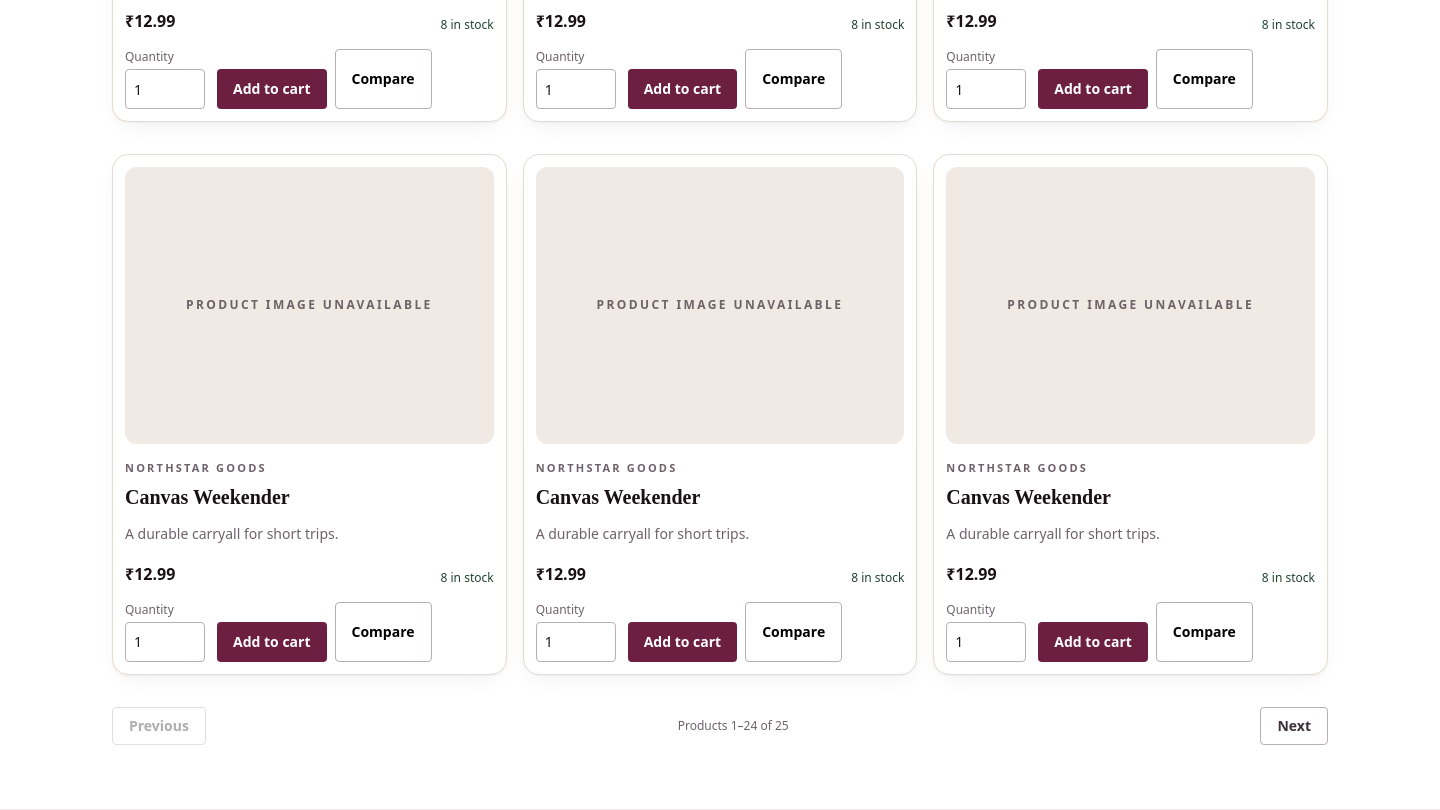
Test case: ProductCatalog › moves between API pages
The width and height of the screenshot is (1440, 810).
(page scrolled)
Click the button "Next": (1294, 726) [1260,707,1328,745]
(page scrolled)
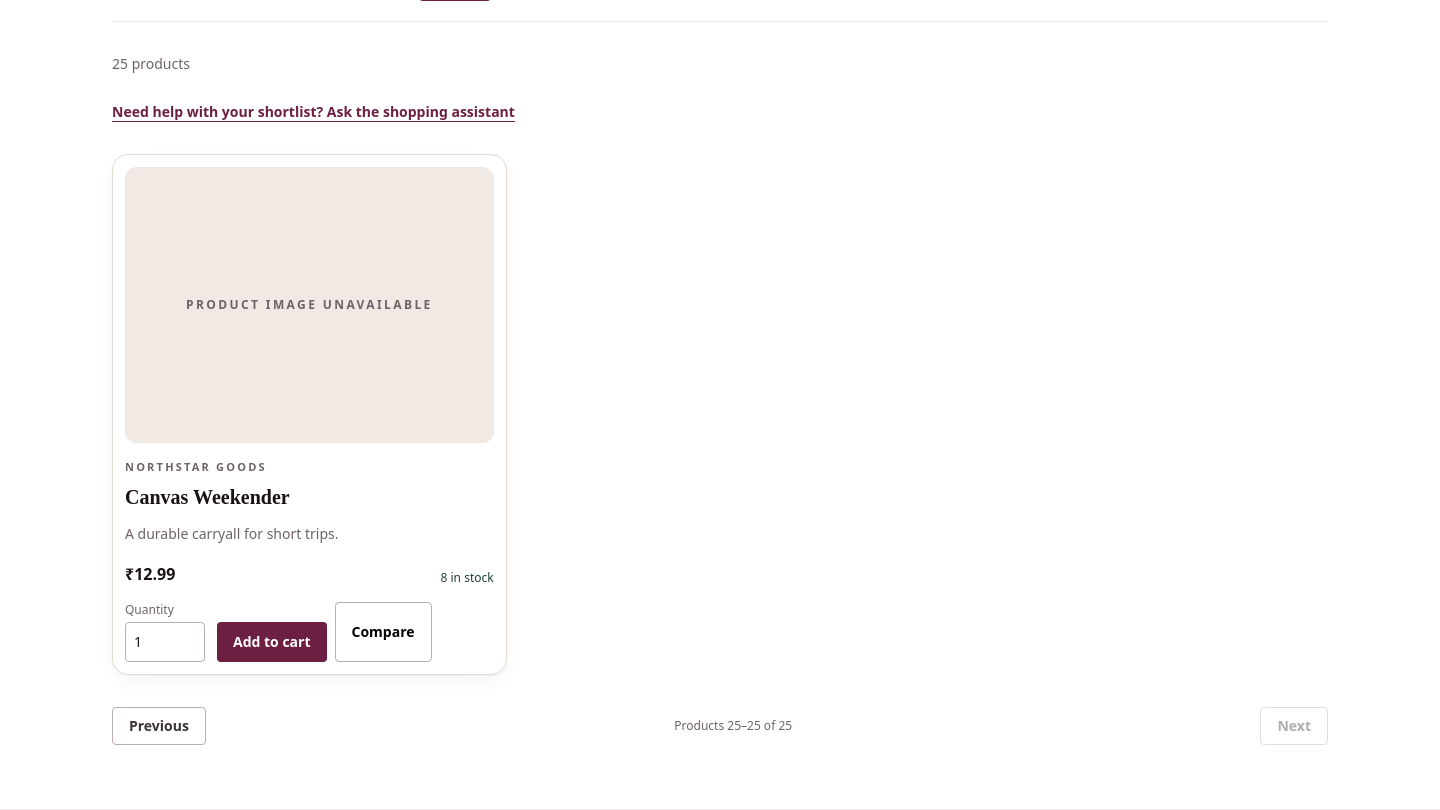
Expected: the heading "Canvas Weekender" is shown, [125,480,290,515]
Expected: the button "Previous" is enabled, [112,707,206,745]
